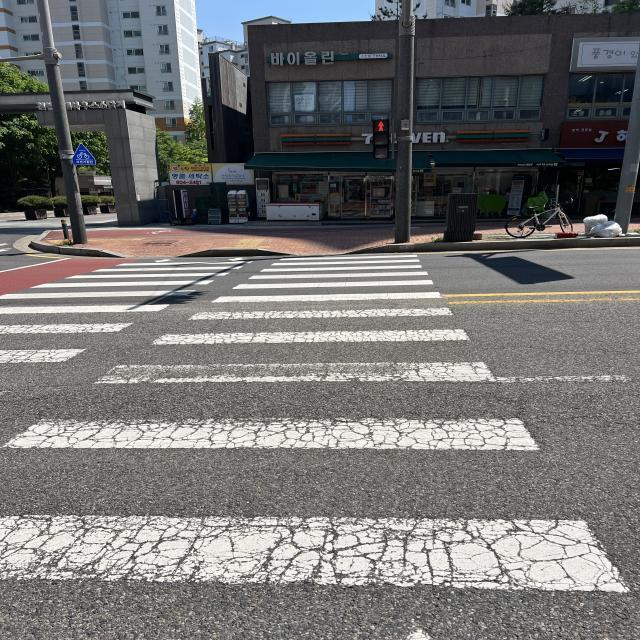crosswalk: (1, 231, 640, 640)
red-crossing: (366, 116, 398, 164)
